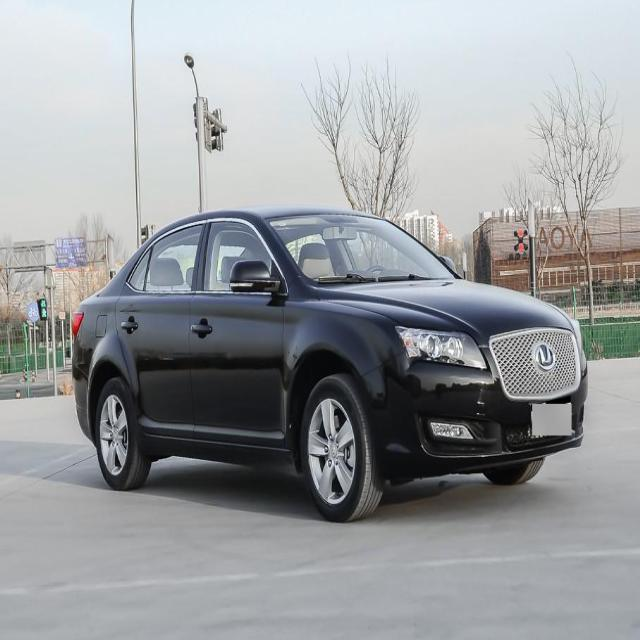back_right_side_light: (69, 308, 87, 344)
door: (118, 221, 208, 444)
front_bumper: (361, 344, 588, 479)
front_glass: (269, 215, 455, 284)
front_right_side_door: (186, 216, 290, 454)
front_right_side_light: (392, 324, 488, 372)
front_right_side_mirror: (229, 258, 277, 298)
wheel: (300, 378, 372, 522), (95, 377, 140, 490)
